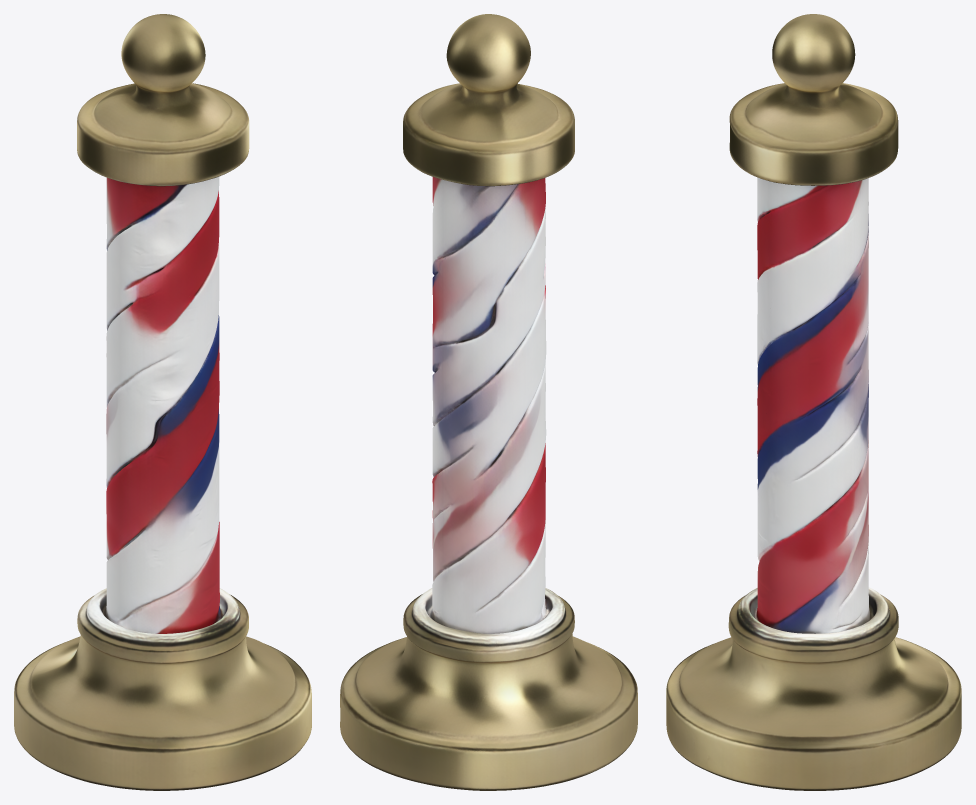
The model's file is pole.glb.
3 renders of one model, left to right at view 1: azimuth 30°, elevation 25°; view 2: azimuth 150°, elevation 25°; view 3: azimuth 270°, elevation 25°, orthographic.
Visible parts, largest first — view 1: model; view 2: model; view 3: model.
Part boxes in pixels (left/top/right/bottom): model: left=14, top=14, right=311, bottom=790; model: left=340, top=14, right=637, bottom=790; model: left=666, top=14, right=961, bottom=790.
Size of the model in its own units: 0.7141 by 1.9 by 0.7121.
Materials: 1 (1 with a texture image).
